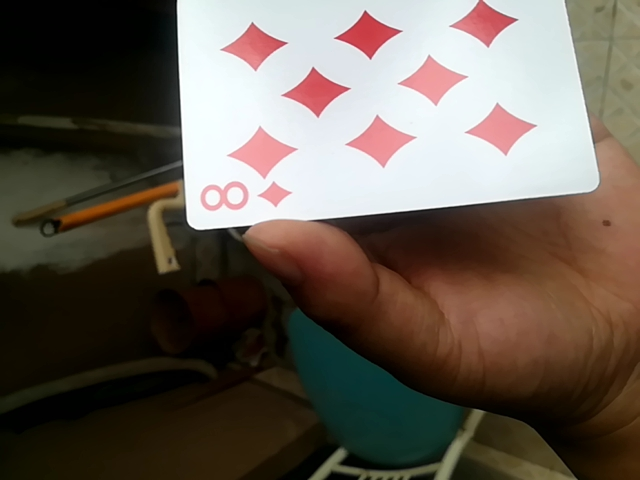fk 8: (168, 0, 597, 239)
